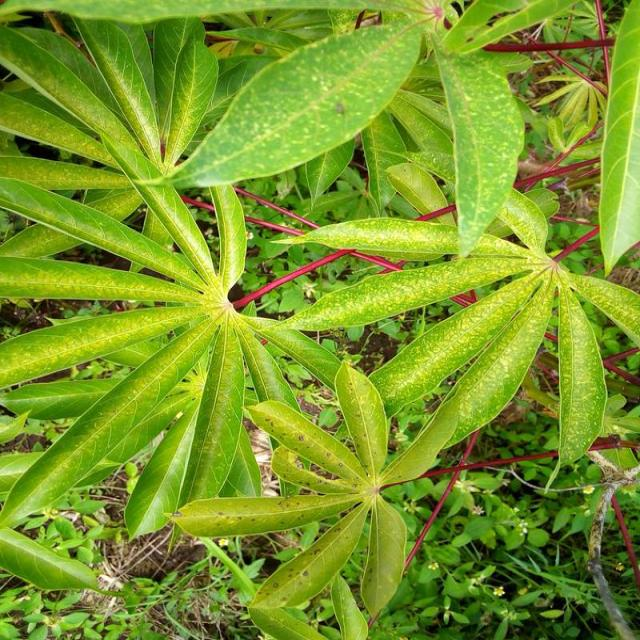cassava leaf: (2, 1, 640, 635), (166, 14, 426, 190), (430, 21, 528, 258), (599, 0, 640, 276)
